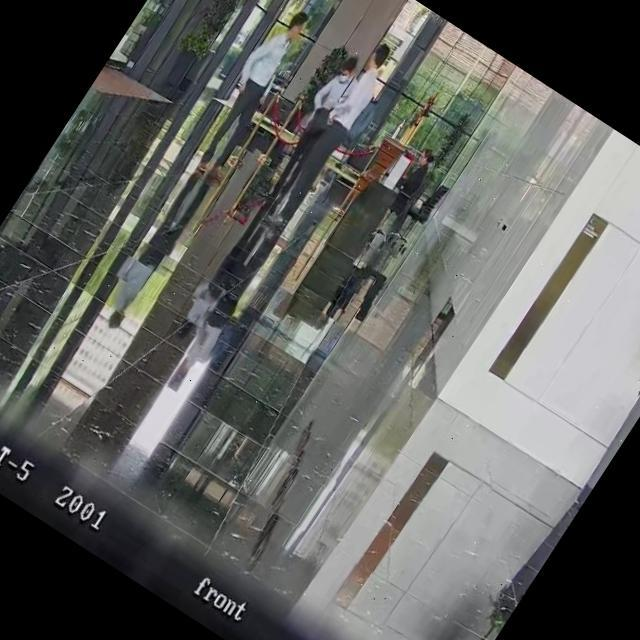person: (178, 1, 321, 188), (263, 38, 401, 230), (244, 46, 373, 220), (382, 144, 440, 216)
